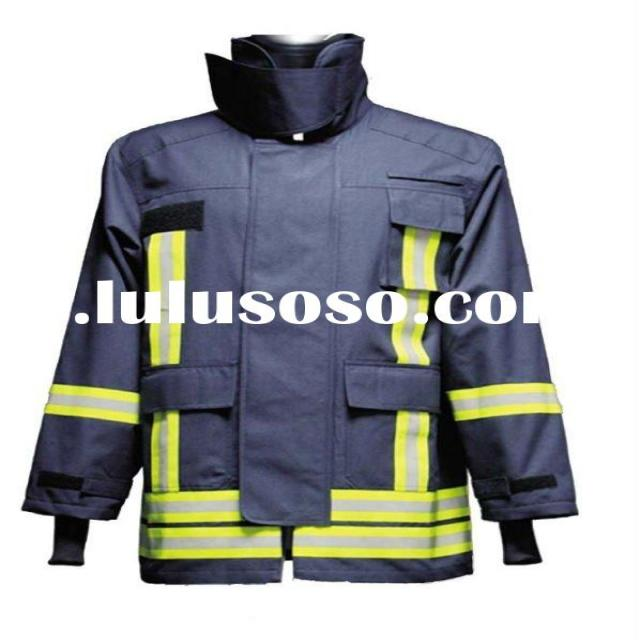Reflective-Jacket: (13, 89, 569, 602)
